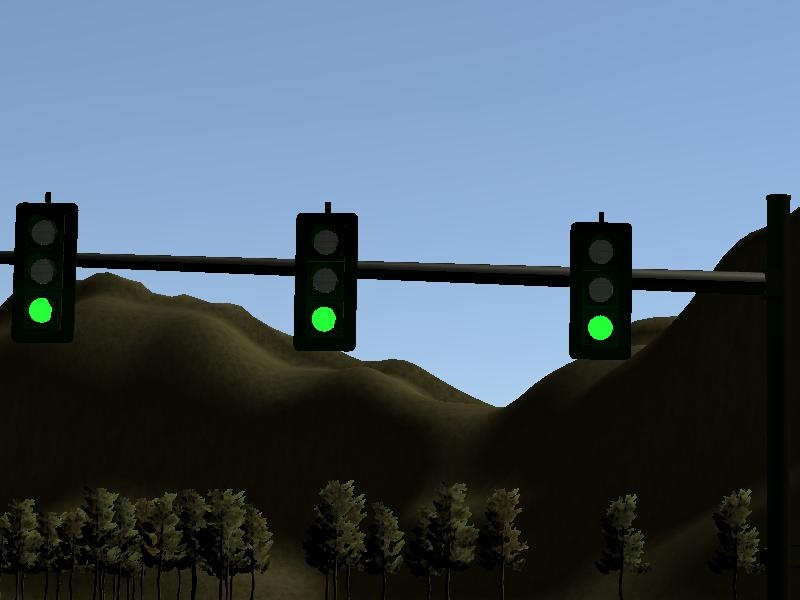GREEN: (13, 202, 77, 337), (293, 213, 357, 348), (568, 222, 632, 357)
